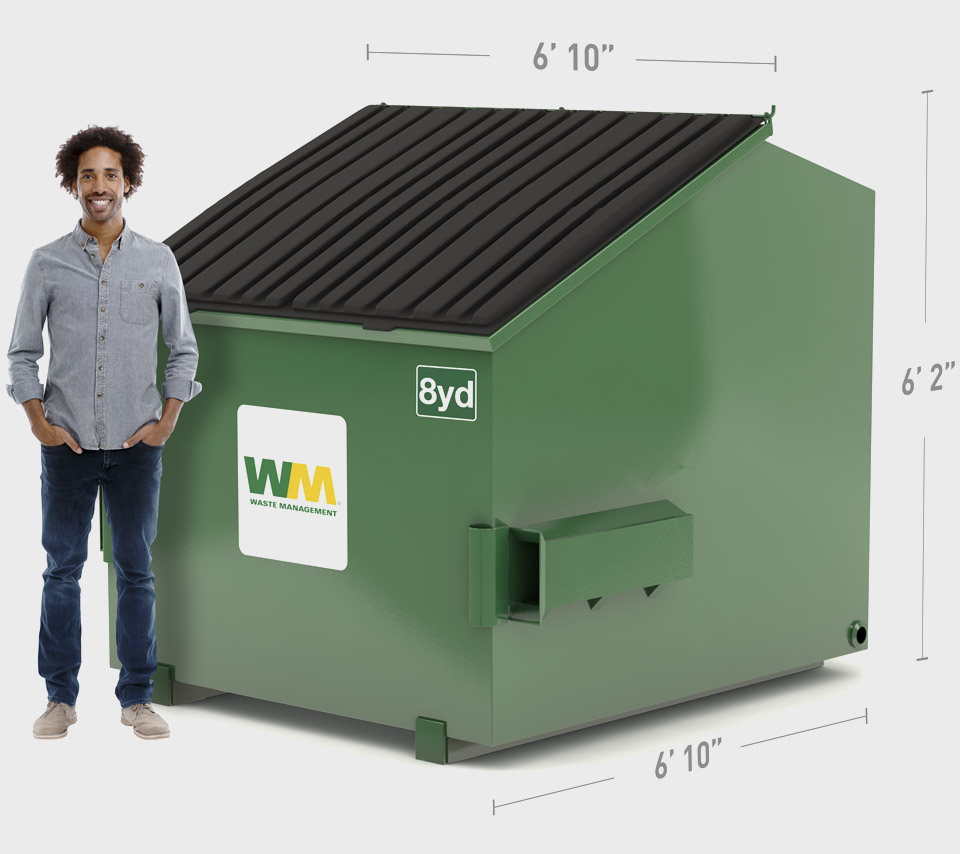Dumpster: (126, 85, 883, 778)
Person: (2, 109, 206, 746)
